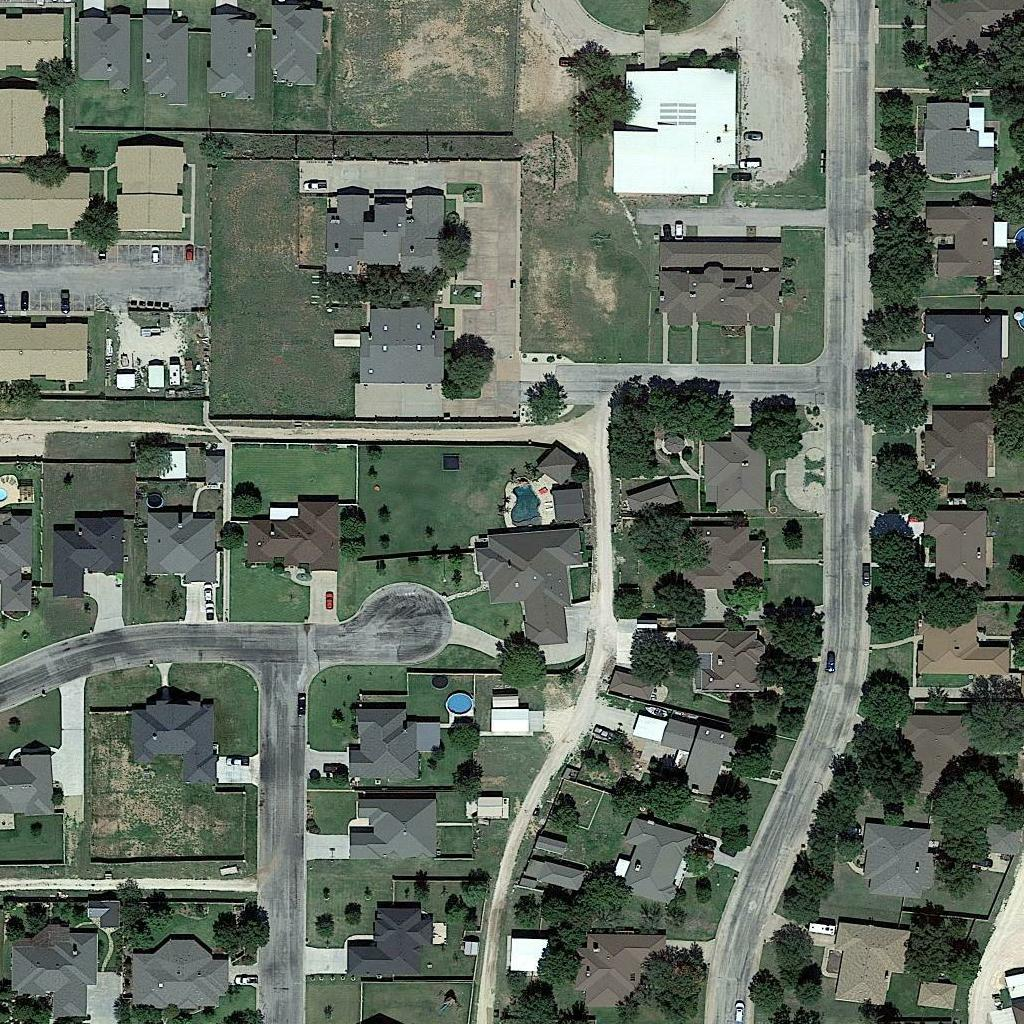ship: (642, 704, 670, 720)
